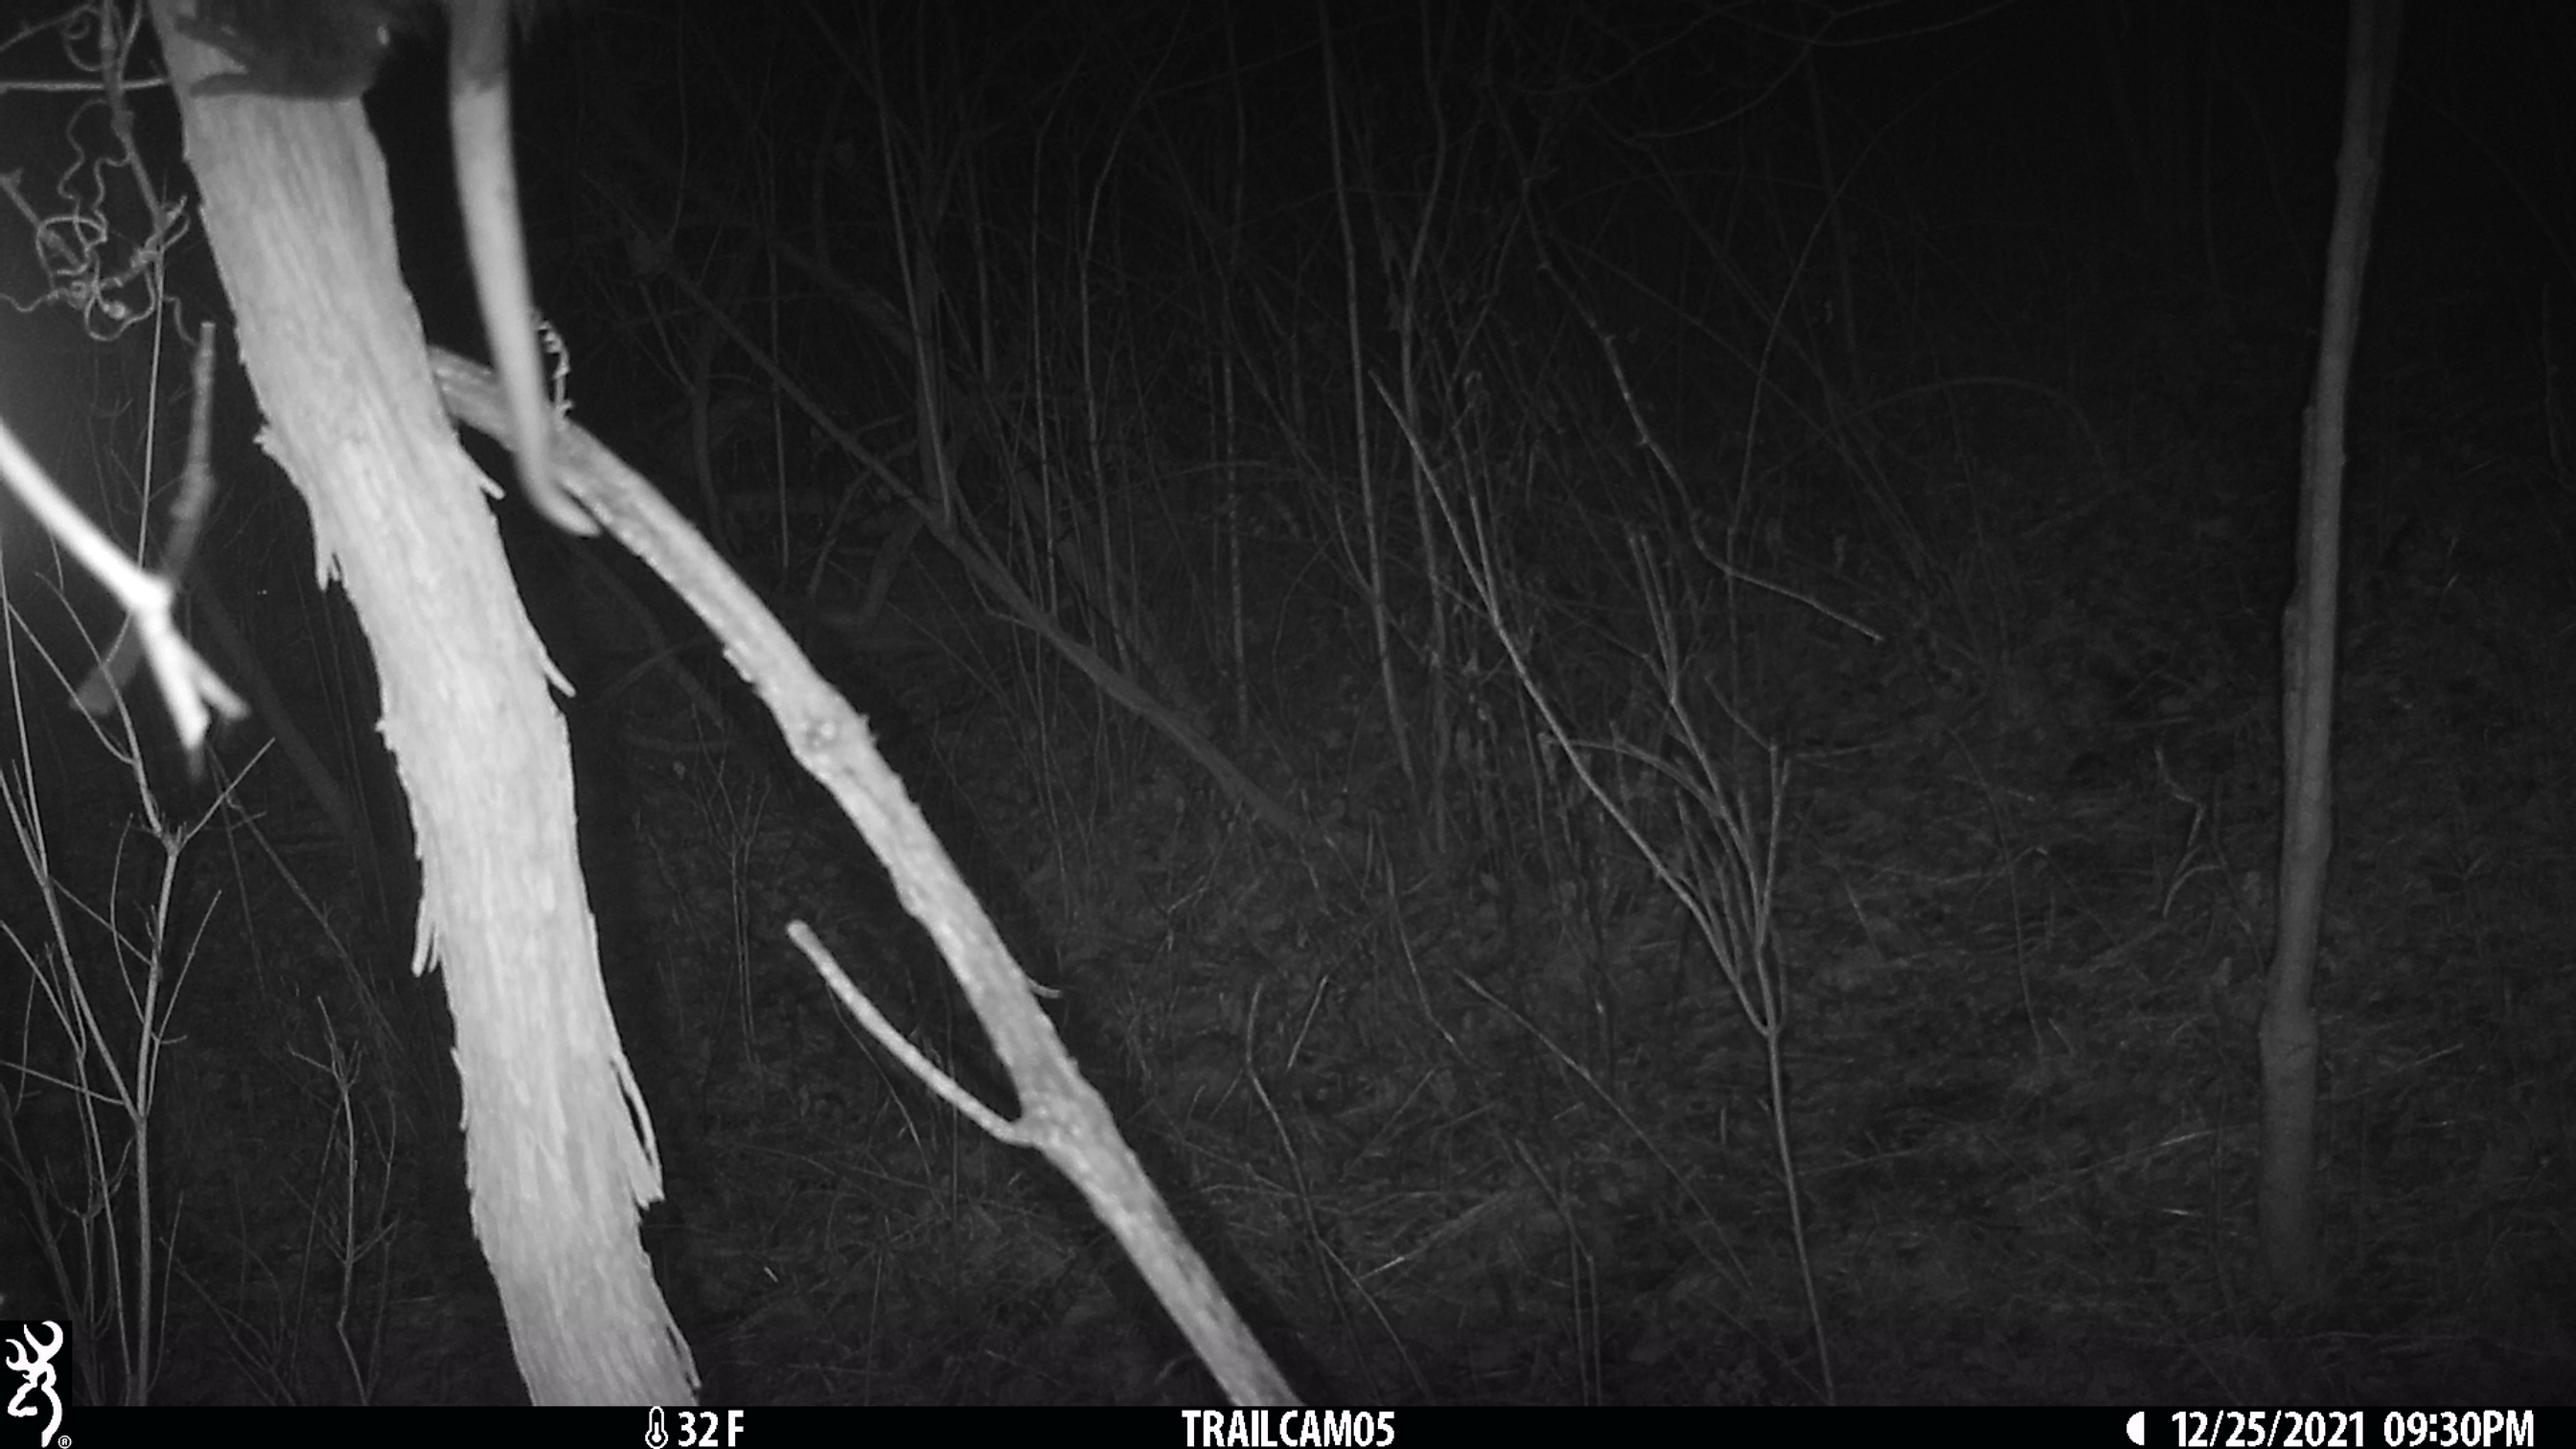Possum: (170, 2, 603, 541)
